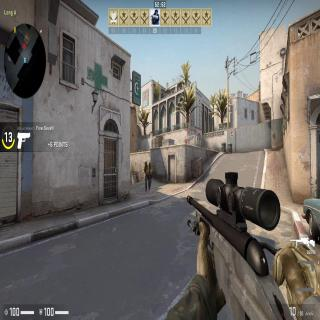T-Body: (143, 161, 149, 190), (148, 161, 153, 188)
T-Head: (144, 161, 148, 166), (149, 162, 151, 167)
